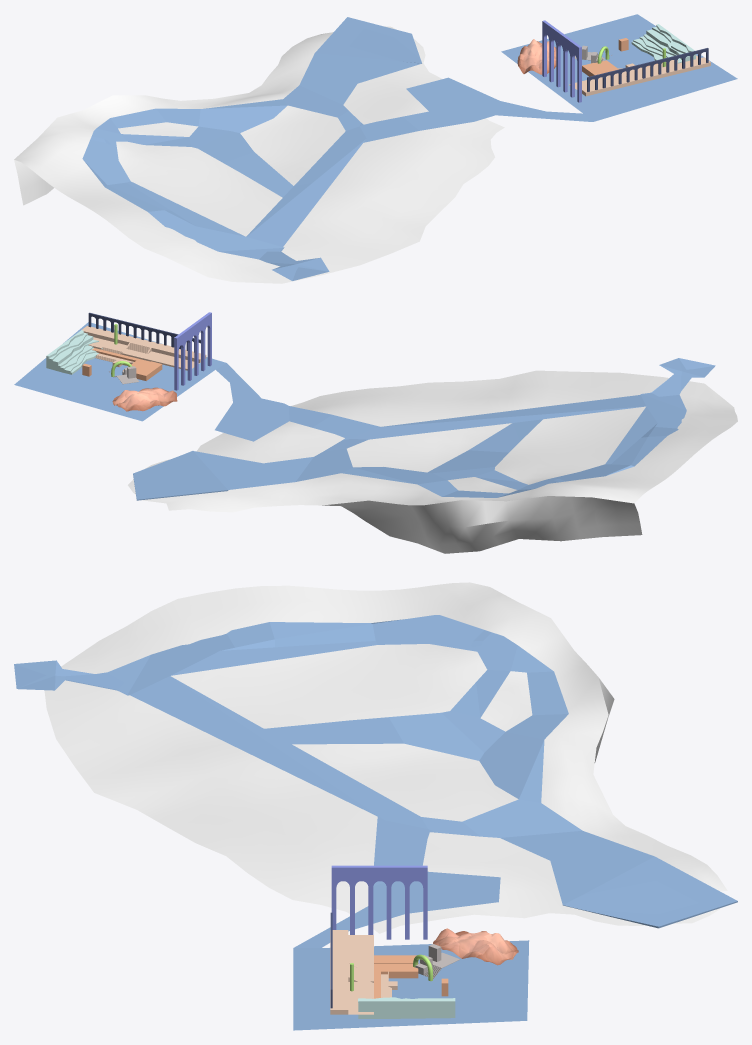
File: nav.glb
3 renders of one model, top to bottom at view 1: azimuth 30°, elevation 25°; view 2: azimuth 150°, elevation 25°; view 3: azimuth 270°, elevation 25°, orthographic. The views are drawn at different scales.
Parts seen in each view (by area): view 1: Map, Cube, Big Stairs; view 2: Map, Cube, Big Stairs; view 3: Map, Cube, Big Stairs.
Part boxes in pixels (box(x1,y1,x2,y2)): Map: box(14, 26, 504, 283); Cube: box(82, 14, 737, 280); Big Stairs: box(517, 20, 710, 102); Map: box(128, 370, 737, 553); Cube: box(14, 322, 715, 500); Big Stairs: box(46, 312, 211, 411); Map: box(44, 582, 727, 933); Cube: box(14, 615, 737, 1030); Big Stairs: box(330, 865, 518, 1018).
Bounding box in the file's own units: 658 × 96.34 × 486.
